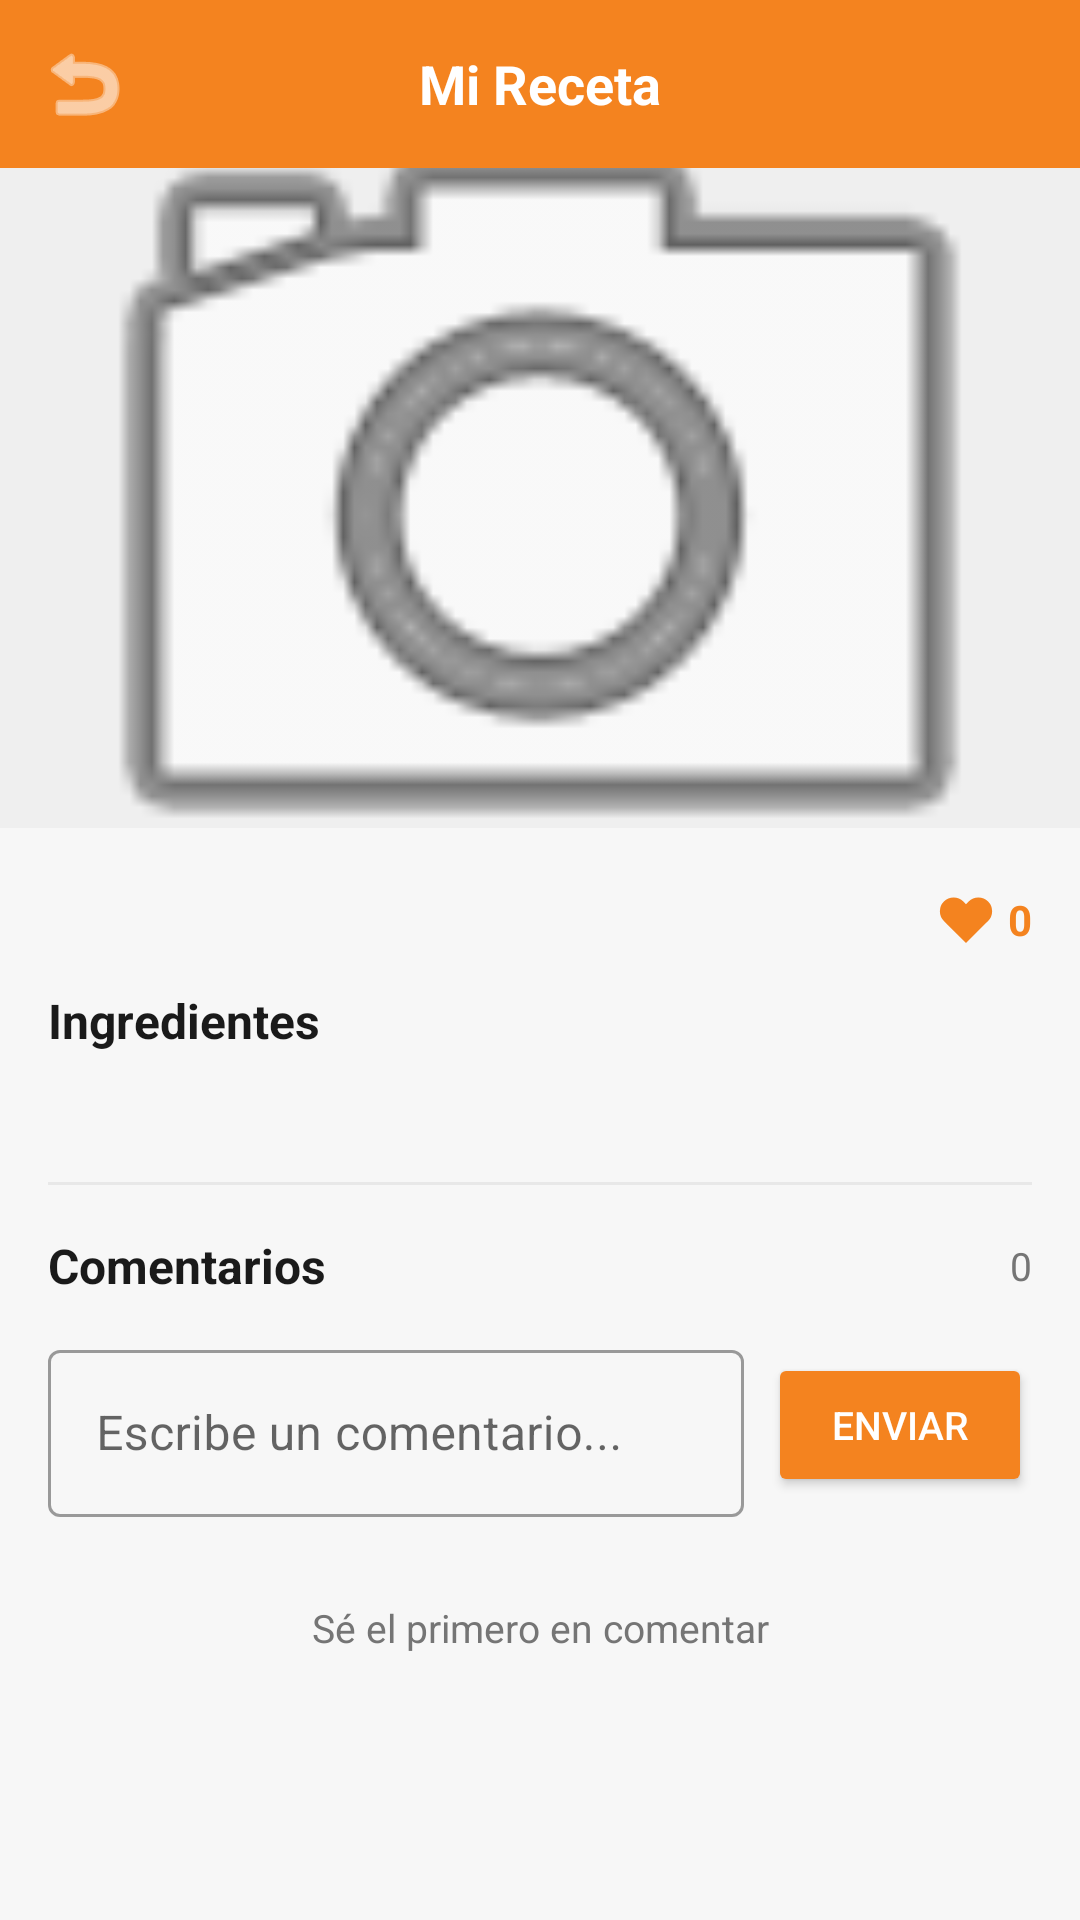

Named icons in this screenshot (1080 x 1920) and their bounding boxes, bbox=[x1, y1, x2, y2]:
heart: bbox=[940, 897, 992, 943]
Volver: bbox=[51, 53, 120, 116]
